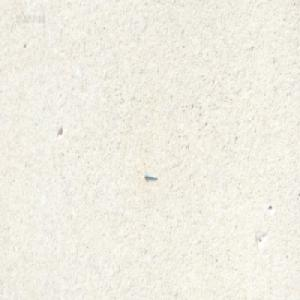Nail: (144, 170, 157, 180)
